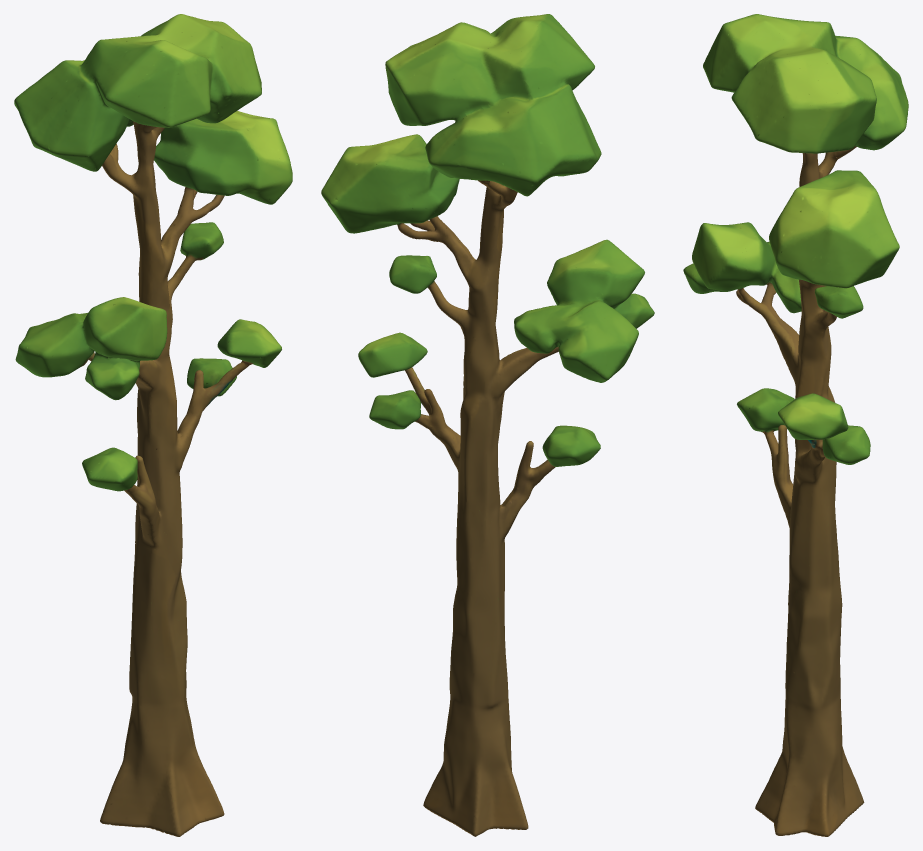
File: tree2.glb
3 renders of one model, left to right at view 1: azimuth 30°, elevation 25°; view 2: azimuth 150°, elevation 25°; view 3: azimuth 270°, elevation 25°, orthographic. The views are drawn at different scales.
Visible parts, largest first — view 1: world; view 2: world; view 3: world.
Boxes of the visible parts, box(x1,y1,x2,y2) form: world: box(14, 14, 292, 836); world: box(321, 14, 654, 836); world: box(683, 14, 908, 836).
Size of the model in its own units: 0.3722 by 1 by 0.2605.
Materials: 1 (1 with a texture image).
